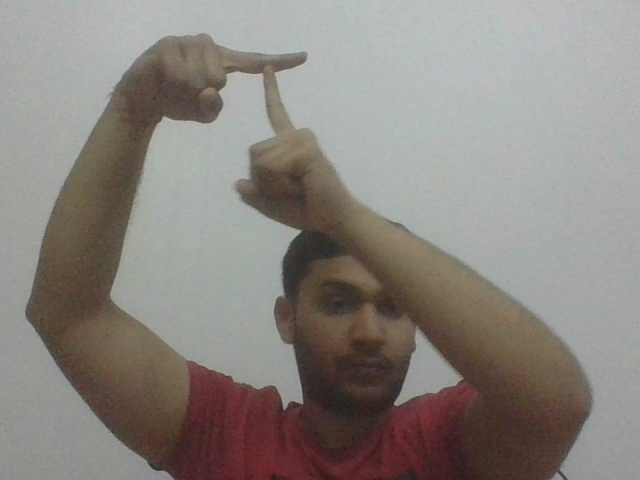T: (232, 43, 316, 126)
